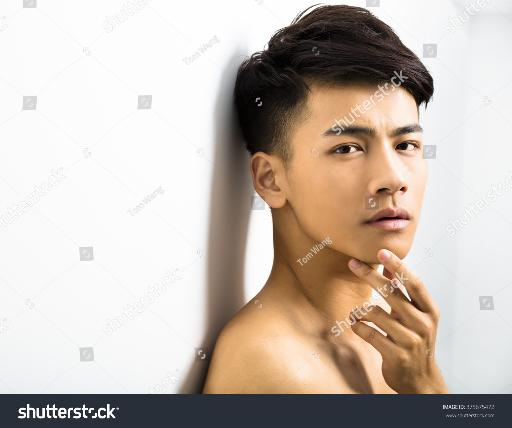left_eye: (395, 141, 420, 156)
left_lip_corner: (403, 214, 414, 228)
right_eye: (328, 142, 367, 158)
right_lip_corner: (358, 218, 373, 231)
